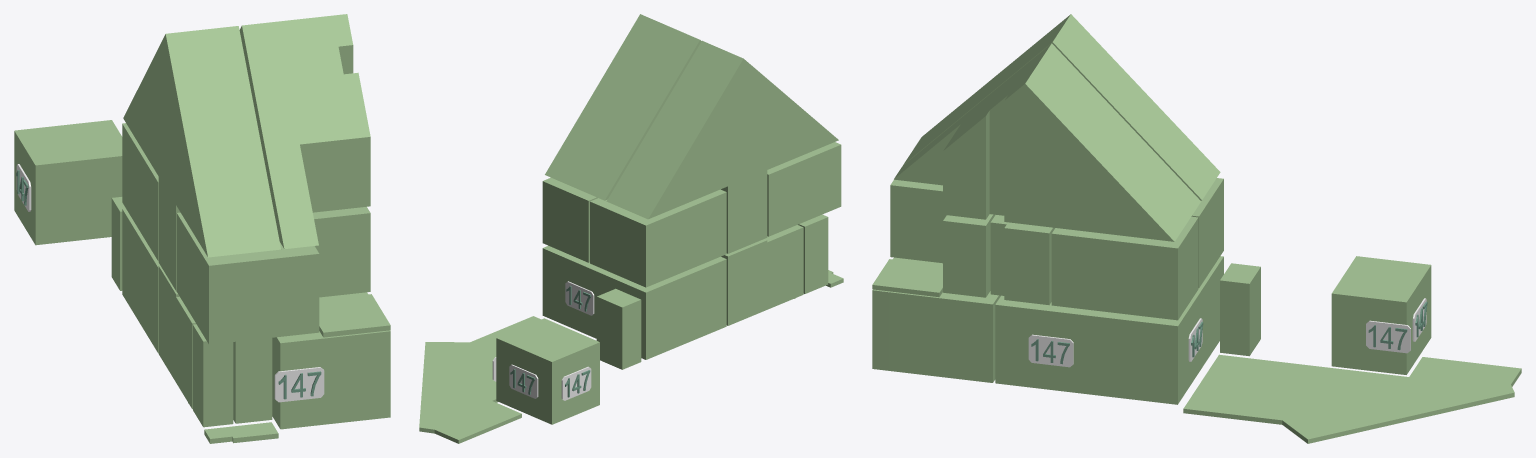
3 views of the same model, side by side, from view 1: azimuth 30°, elevation 25°; view 2: azimuth 150°, elevation 25°; view 3: azimuth 270°, elevation 25° (orthographic). The views are drawn at different scales.
Visible parts, largest first — view 1: g_6, g_7, g_11, g_3, g_1, g_2, g_8, g_5, g_0, g_9, g_16, g_14 (+3 smaller); view 2: g_7, g_6, g_0, g_9, g_17, g_3, g_2, g_11, g_8, g_10, g_4, g_14 (+4 smaller); view 3: g_6, g_17, g_0, g_10, g_1, g_7, g_3, g_11, g_13, g_4, g_9, g_16 (+3 smaller).
Part boxes in pixels (left/top/right/bottom): g_6: left=239, top=14, right=370, bottom=249; g_7: left=123, top=26, right=281, bottom=257; g_11: left=176, top=206, right=370, bottom=344; g_3: left=14, top=120, right=122, bottom=245; g_1: left=272, top=292, right=390, bottom=429; g_2: left=158, top=265, right=272, bottom=423; g_8: left=158, top=30, right=207, bottom=204; g_5: left=193, top=324, right=233, bottom=427; g_0: left=122, top=208, right=160, bottom=353; g_9: left=122, top=123, right=158, bottom=260; g_16: left=319, top=294, right=390, bottom=337; g_14: left=158, top=177, right=180, bottom=291; g_7: left=606, top=40, right=838, bottom=219; g_6: left=545, top=14, right=701, bottom=200; g_0: left=542, top=245, right=726, bottom=359; g_9: left=590, top=189, right=726, bottom=287; g_17: left=419, top=316, right=541, bottom=443; g_3: left=496, top=318, right=599, bottom=424; g_2: left=721, top=225, right=803, bottom=325; g_11: left=767, top=142, right=841, bottom=236; g_8: left=708, top=50, right=767, bottom=186; g_10: left=542, top=177, right=597, bottom=262; g_4: left=596, top=288, right=641, bottom=369; g_14: left=721, top=170, right=767, bottom=253; g_6: left=894, top=43, right=1200, bottom=241; g_17: left=1183, top=354, right=1521, bottom=443; g_0: left=995, top=256, right=1223, bottom=404; g_10: left=1051, top=216, right=1198, bottom=320; g_1: left=872, top=257, right=1000, bottom=382; g_7: left=903, top=27, right=1220, bottom=200; g_3: left=1331, top=256, right=1431, bottom=374; g_11: left=890, top=179, right=995, bottom=297; g_13: left=990, top=215, right=1054, bottom=305; g_4: left=1220, top=263, right=1260, bottom=356; g_9: left=1191, top=178, right=1223, bottom=288; g_16: left=872, top=259, right=942, bottom=297.
Bounding box in the file's own units: 10.05 × 10.25 × 19.6.
